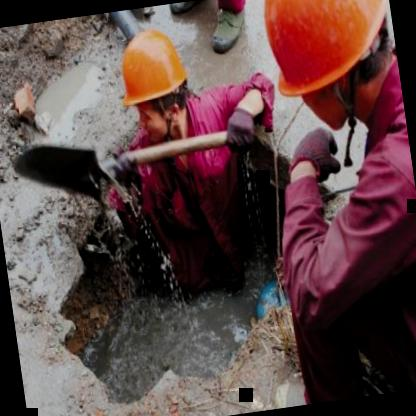helmet: (247, 0, 399, 137), (105, 18, 202, 155)
